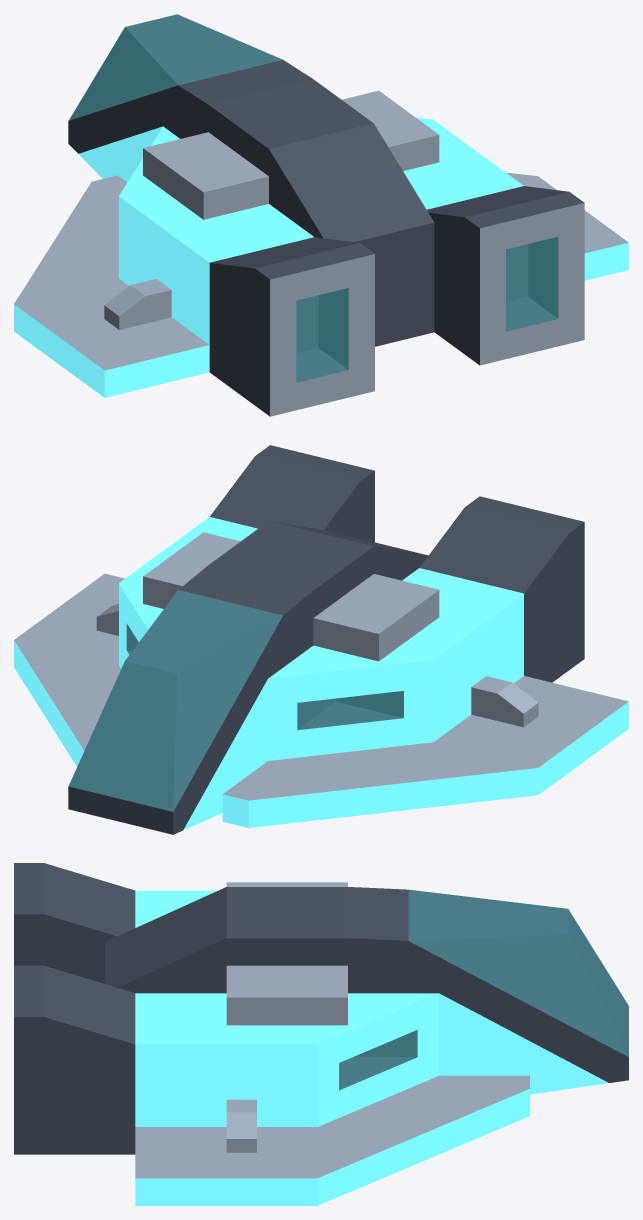
Rendered from craft_speederB.glb.
3 views of the same model, one above another, from view 1: azimuth 30°, elevation 25°; view 2: azimuth 150°, elevation 25°; view 3: azimuth 270°, elevation 25° (orthographic).
Visible parts, largest first — view 1: craft_speederB; view 2: craft_speederB; view 3: craft_speederB.
Boxes of the visible parts, x1,y1,x2,y2 form: craft_speederB: (14, 14, 628, 416); craft_speederB: (14, 445, 628, 834); craft_speederB: (14, 863, 628, 1205).
Size of the model in its own units: 2 by 0.6 by 2.03.
